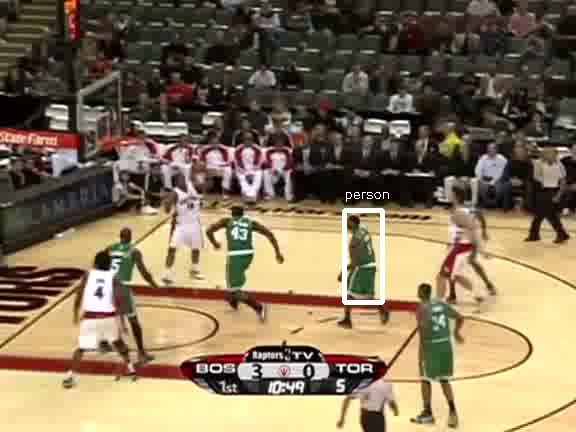person: (350, 223, 384, 304), (349, 223, 383, 304), (351, 223, 385, 304), (350, 222, 384, 303), (350, 224, 384, 305)
target_negative: (38, 127, 538, 191), (48, 300, 547, 352), (351, 17, 476, 151), (387, 335, 466, 355), (556, 142, 564, 147), (277, 220, 280, 223)
